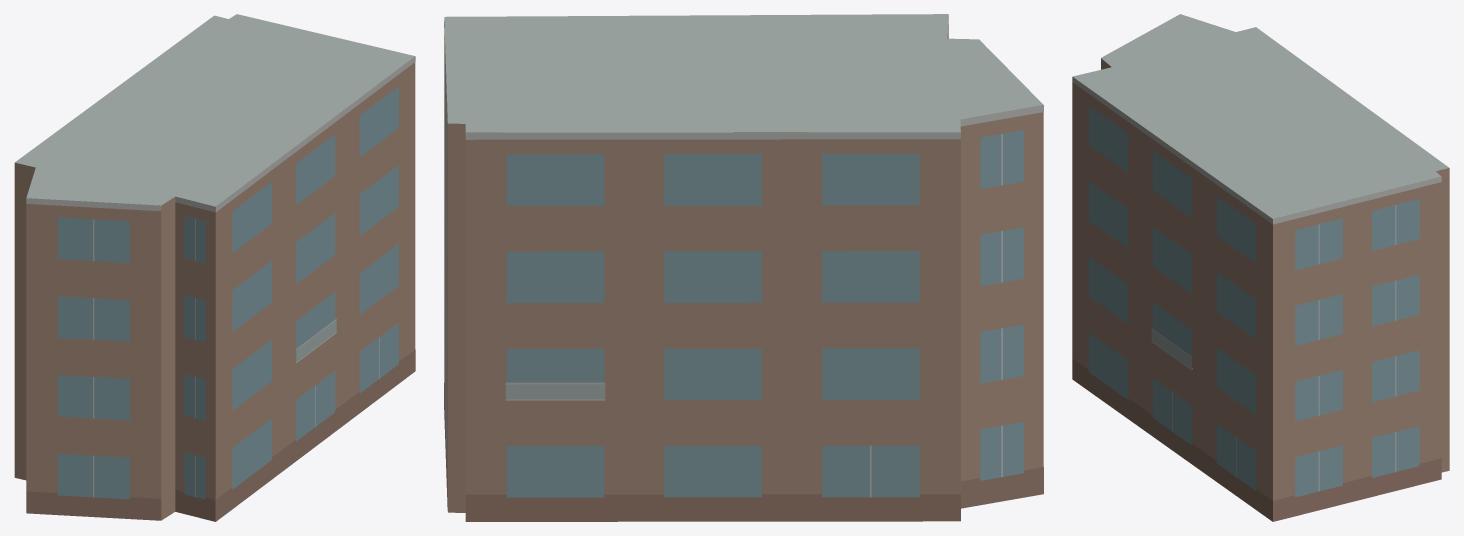
The model's file is survey-upis-32726769.glb.
3 renders of one model, left to right at view 1: azimuth 30°, elevation 25°; view 2: azimuth 150°, elevation 25°; view 3: azimuth 270°, elevation 25°, orthographic. The views are drawn at different scales.
Parts seen in each view (by area): view 1: survey-upis-32726769.tmp; view 2: survey-upis-32726769.tmp; view 3: survey-upis-32726769.tmp.
Part boxes in pixels (box(x1,y1,x2,y2)): survey-upis-32726769.tmp: box(14, 14, 415, 521); survey-upis-32726769.tmp: box(444, 14, 1043, 521); survey-upis-32726769.tmp: box(1072, 14, 1449, 521).
Bounding box in the file's own units: 19.47 × 13.4 × 15.14.
